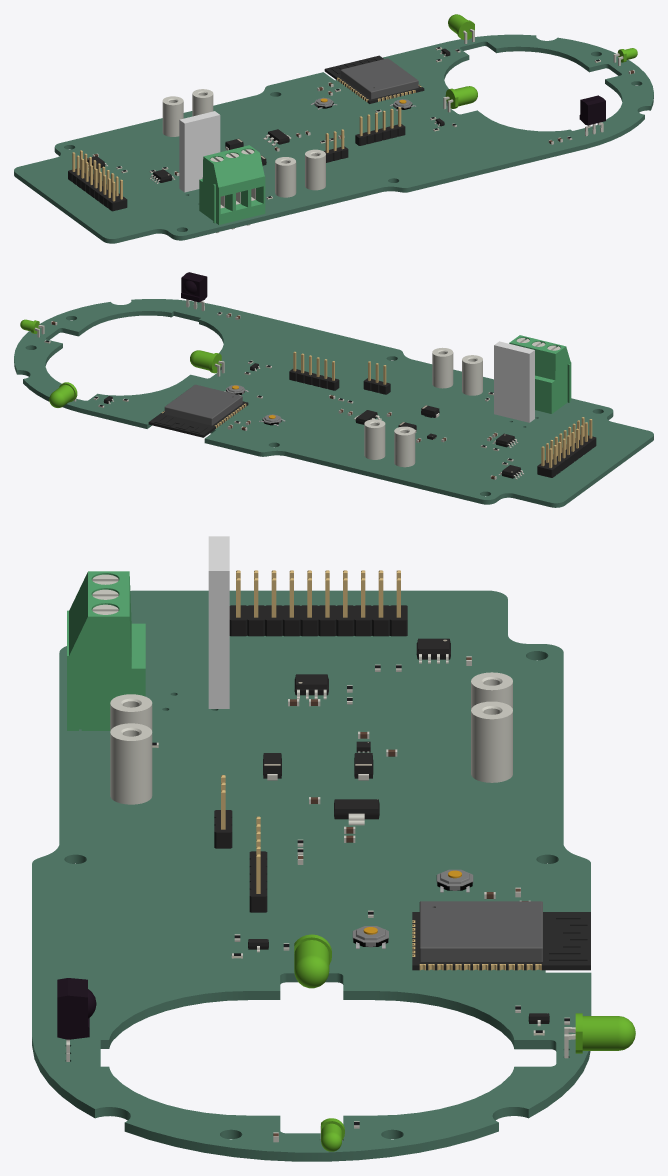
File: Rdrop-GPT6.glb
3 renders of one model, top to bottom at view 1: azimuth 30°, elevation 25°; view 2: azimuth 150°, elevation 25°; view 3: azimuth 270°, elevation 25°, orthographic. The views are drawn at different scales.
Parts seen in each view (by area): view 1: =>[0:1:1:38], =>[0:1:1:37], =>[0:1:1:23] (×4), =>[0:1:1:3], =>[0:1:1:21], =>[0:1:1:13], =>[0:1:1:15] (×2), =>[0:1:1:33], =>[0:1:1:27], =>[0:1:1:9]; view 2: =>[0:1:1:38], =>[0:1:1:23] (×4), =>[0:1:1:3], =>[0:1:1:21], =>[0:1:1:37], =>[0:1:1:13], =>[0:1:1:15] (×2), =>[0:1:1:33], =>[0:1:1:27], =>[0:1:1:9]; view 3: =>[0:1:1:38], =>[0:1:1:3], =>[0:1:1:37], =>[0:1:1:23] (×4), =>[0:1:1:13], =>[0:1:1:15] (×2), =>[0:1:1:21], =>[0:1:1:27], =>[0:1:1:33], =>[0:1:1:31], =>[0:1:1:9].
Boxes of the visible parts, box(x1,y1,x2,y2) form: =>[0:1:1:38]: box(14, 34, 653, 243); =>[0:1:1:37]: box(199, 145, 265, 232); =>[0:1:1:23] (×4): box(162, 89, 325, 197); =>[0:1:1:3]: box(324, 55, 424, 103); =>[0:1:1:21]: box(179, 111, 220, 192); =>[0:1:1:13]: box(68, 150, 127, 211); =>[0:1:1:15] (×2): box(443, 14, 477, 112); =>[0:1:1:33]: box(355, 107, 405, 145); =>[0:1:1:27]: box(579, 95, 605, 136); =>[0:1:1:9]: box(324, 129, 348, 162); =>[0:1:1:38]: box(14, 299, 653, 507); =>[0:1:1:23] (×4): box(364, 347, 482, 467); =>[0:1:1:3]: box(148, 384, 248, 437); =>[0:1:1:21]: box(494, 341, 534, 422); =>[0:1:1:37]: box(509, 335, 571, 413); =>[0:1:1:13]: box(537, 417, 596, 477); =>[0:1:1:15] (×2): box(49, 350, 224, 407); =>[0:1:1:33]: box(289, 351, 339, 390); =>[0:1:1:27]: box(181, 272, 207, 311); =>[0:1:1:9]: box(363, 361, 390, 394); =>[0:1:1:38]: box(32, 590, 591, 1161); =>[0:1:1:3]: box(412, 901, 590, 970); =>[0:1:1:37]: box(67, 571, 145, 730); =>[0:1:1:23] (×4): box(110, 672, 512, 804); =>[0:1:1:13]: box(229, 570, 407, 636); =>[0:1:1:15] (×2): box(294, 934, 635, 1058); =>[0:1:1:21]: box(208, 536, 229, 708); =>[0:1:1:27]: box(57, 978, 96, 1061); =>[0:1:1:33]: box(249, 816, 267, 912); =>[0:1:1:31]: box(334, 799, 379, 825); =>[0:1:1:9]: box(214, 775, 232, 848).
Bounding box in the file's own units: 0.1918 × 0.0287 × 0.086.
